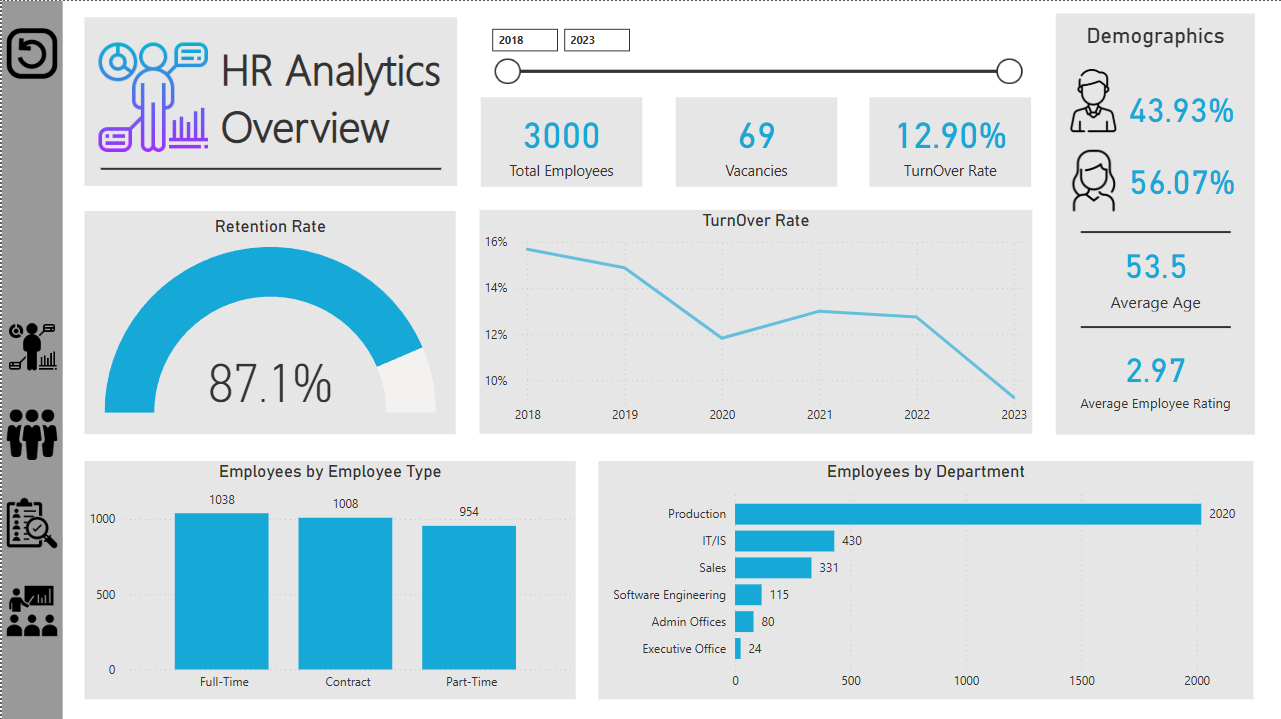

The page's visual inventory and layout, read from the dashboard file:
{"tool":"powerbi","page":{"name":"Overview","canvas":[1280,720],"ordinal":0},"visuals":[{"type":"shape","box":[0,0,60.7,720.2],"z":0,"group":"g4"},{"type":"group","id":"g1","title":"Logo","box":[82.1,16.7,372.6,169],"z":0},{"type":"shape","box":[82.1,16.7,372.6,169],"z":0,"group":"g1"},{"type":"image","box":[1055.9,139.9,71.4,79.8],"z":0,"group":"g3"},{"type":"image","box":[89.1,36.1,122.6,122.6],"z":1000,"group":"g1"},{"type":"image","box":[1054.7,60.1,72.6,79.8],"z":1000,"group":"g3"},{"type":"card","fields":{"Values":["Measure Table.Total Employees"]},"box":[478.2,95.9,161.8,89.9],"z":1000},{"type":"image","box":[0,491.4,59.9,61.1],"z":1000,"group":"g4"},{"type":"shape","box":[98.8,161.9,340.5,13.1],"z":1500,"group":"g1"},{"type":"textbox","box":[212.9,32.6,240.5,127.4],"z":2000,"group":"g1"},{"type":"card","fields":{"Values":["Measure Table.% of men"]},"box":[1117,66,124.6,80.3],"z":2000,"group":"g3"},{"type":"clusteredBarChart","title":"Employees by Department","fields":{"Category":["employee_data.DepartmentType"],"Y":["Measure Table.Total Employees"]},"box":[596.9,460.2,655.6,238.5],"z":2000},{"type":"image","box":[0,580.1,59.9,59.9],"z":2000,"group":"g4"},{"type":"card","fields":{"Values":["Measure Table.% of women"]},"box":[1117.3,139.1,124.6,79.1],"z":3000,"group":"g3"},{"type":"image","box":[0,315.2,59.9,61.1],"z":3000,"group":"g4"},{"type":"clusteredColumnChart","title":"Employees by Employee Type","fields":{"Category":["employee_data.EmployeeType"],"Y":["Measure Table.Total Employees"]},"box":[82.7,460.2,491.4,238.5],"z":3000},{"type":"slicer","fields":{"Values":["employee_data.StartDate.Variation.Date Hierarchy.Year"]},"box":[477.9,17.2,551.4,71.2],"z":4000},{"type":"image","box":[0,403.9,59.9,59.9],"z":4000,"group":"g4"},{"type":"group","id":"g2","title":"DEmo","box":[1054,12,199.1,421.3],"z":5000},{"type":"shape","box":[1054,12,199.1,421.3],"z":5000,"group":"g2"},{"type":"group","id":"g3","title":"Gender","box":[1054.7,60.1,187.3,159.5],"z":6000,"group":"g2"},{"type":"lineChart","title":"TurnOver Rate","fields":{"Y":["Measure Table.TurnOver rate"],"Category":["employee_data.StartDate.Variation.Date Hierarchy.Year","employee_data.StartDate.Variation.Date Hierarchy.Month"]},"box":[477.6,209.2,552.6,223.6],"z":6000},{"type":"textbox","box":[1073.7,17.3,159.5,42.9],"z":7000,"group":"g2"},{"type":"gauge","fields":{"Y":["Measure Table.Retention Rate"]},"box":[82.7,209.7,371.5,222.9],"z":7000},{"type":"card","fields":{"Values":["Measure Table.Total vacancies"]},"box":[673.6,95.9,161.8,89.9],"z":8000},{"type":"card","fields":{"Values":["Measure Table.Average Age"]},"box":[1079.7,230.4,147.6,84.5],"z":8000,"group":"g2"},{"type":"card","fields":{"Values":["Measure Table.TurnOver rate"]},"box":[867.7,95.9,161.8,89.9],"z":9000},{"type":"shape","box":[1078.6,226.8,150,7.1],"z":9000,"group":"g2"},{"type":"group","id":"g4","title":"Nav Bar","box":[0,0,60.7,720.2],"z":10000},{"type":"image","box":[0,22.8,59.9,59.9],"z":11000},{"type":"card","fields":{"Values":["Measure Table.Average Employee Rating"]},"box":[1064.9,325.6,177.4,98.8],"z":11000,"group":"g2"},{"type":"shape","box":[1078.6,321.5,150,7.1],"z":12000,"group":"g2"}]}

Visuals, with their boxes on the page's 1280x720 design canvas (x1, y1, x2, y2). These are canvas units, not pixel positions in the 1281x719 screenshot, which may show the page scaled, cropped or inside an application window:
shape: (0,0,61,720)
"Logo" group: (82,17,455,186)
shape: (82,17,455,186)
image: (1056,140,1127,220)
image: (89,36,212,159)
image: (1055,60,1127,140)
card - Measure Table.Total Employees: (478,96,640,186)
image: (0,491,60,552)
shape: (99,162,439,175)
textbox: (213,33,453,160)
card - Measure Table.% of men: (1117,66,1242,146)
"Employees by Department" clusteredBarChart: (597,460,1252,699)
image: (0,580,60,640)
card - Measure Table.% of women: (1117,139,1242,218)
image: (0,315,60,376)
"Employees by Employee Type" clusteredColumnChart: (83,460,574,699)
slicer - employee_data.StartDate.Variation.Date Hierarchy.Year: (478,17,1029,88)
image: (0,404,60,464)
"DEmo" group: (1054,12,1253,433)
shape: (1054,12,1253,433)
"Gender" group: (1055,60,1242,220)
"TurnOver Rate" lineChart: (478,209,1030,433)
textbox: (1074,17,1233,60)
gauge - Measure Table.Retention Rate: (83,210,454,433)
card - Measure Table.Total vacancies: (674,96,835,186)
card - Measure Table.Average Age: (1080,230,1227,315)
card - Measure Table.TurnOver rate: (868,96,1030,186)
shape: (1079,227,1229,234)
"Nav Bar" group: (0,0,61,720)
image: (0,23,60,83)
card - Measure Table.Average Employee Rating: (1065,326,1242,424)
shape: (1079,322,1229,329)
